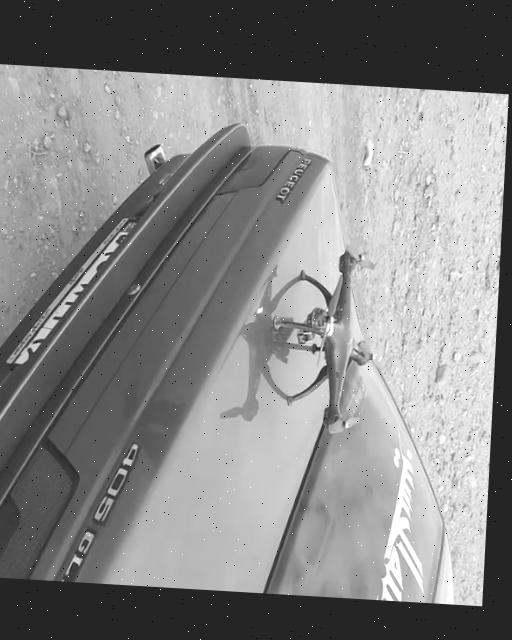drone: (273, 232, 386, 431)
